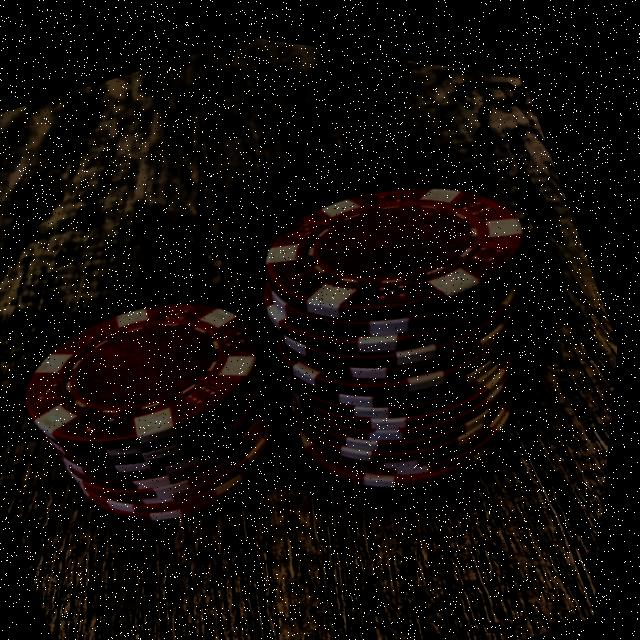Chip: (171, 66, 637, 555), (0, 222, 341, 582)
